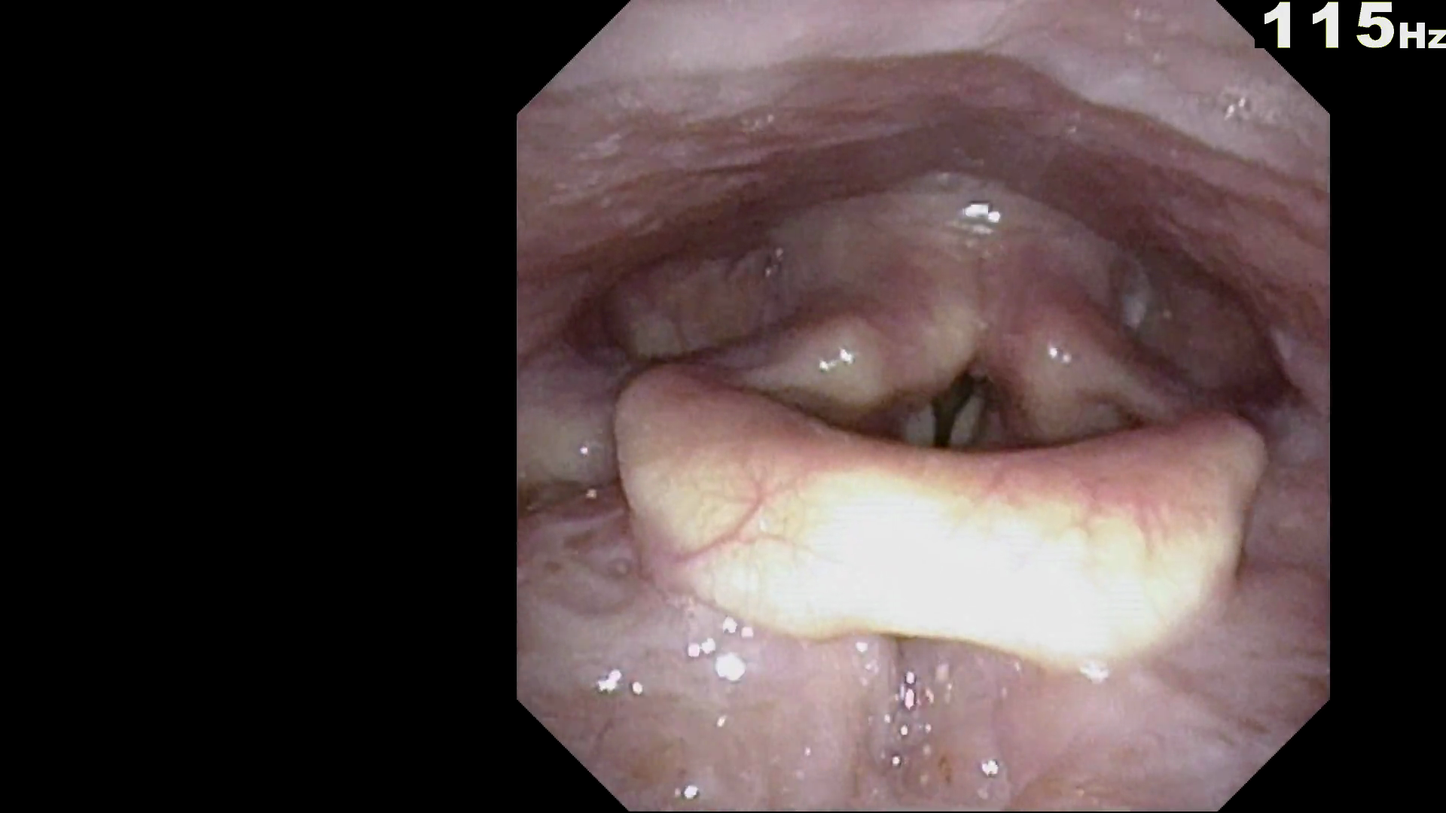epiglottis: (590, 354, 1280, 682)
trachea: (862, 304, 1041, 529)
